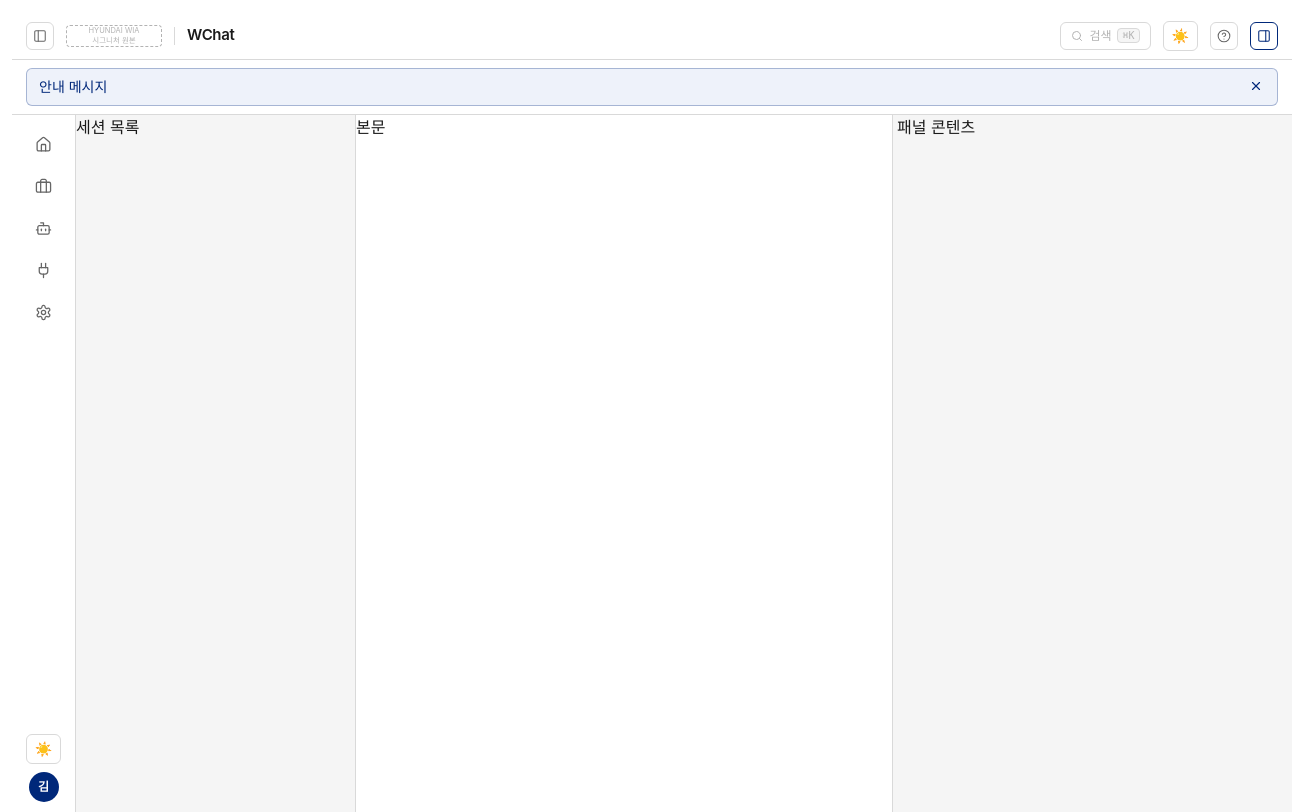
AppShell › P19-T6-15: 배너를 닫으면 사라지고, 세션(sessionStorage) 동안 재노출되지 않는다
Check: the message "안내 메시지" is shown, box [26,68,1278,106]
Click the button named "배너 닫기": (1256, 86) [1247,77,1265,95]
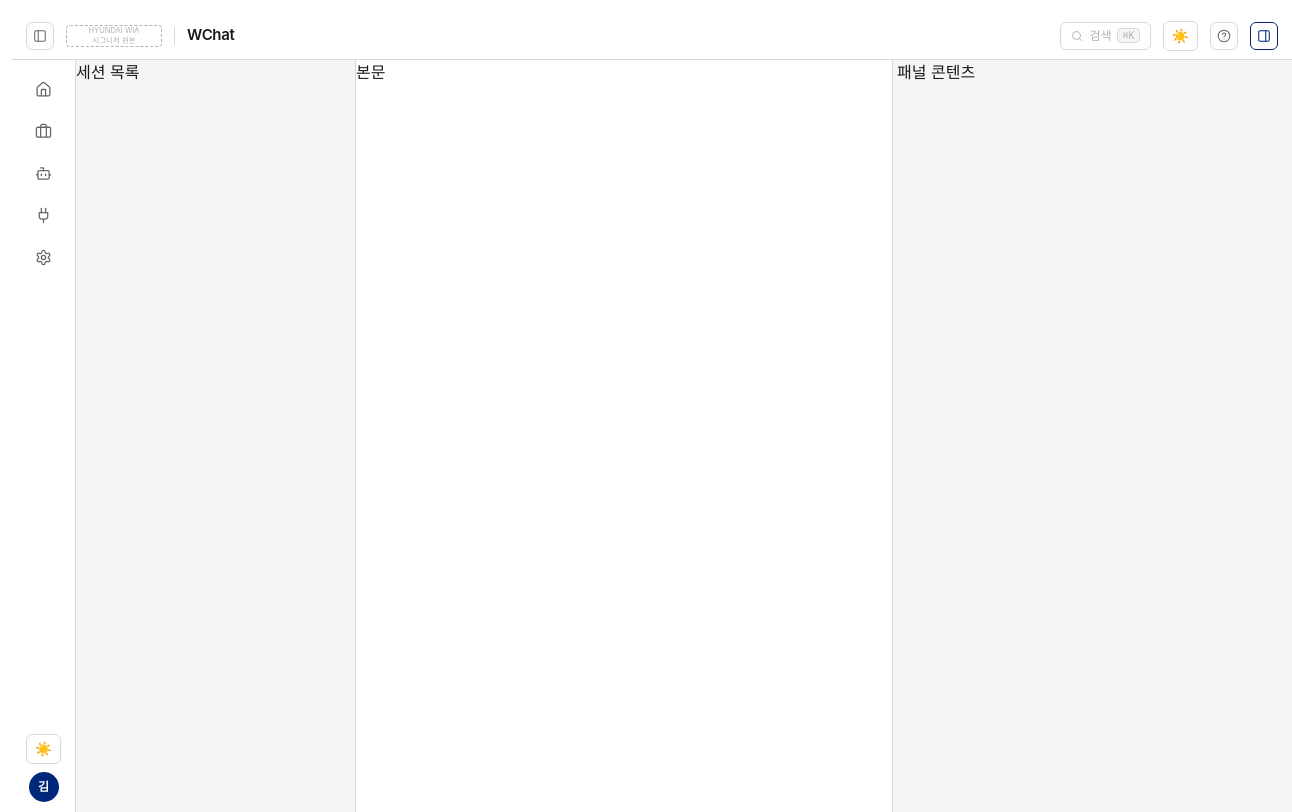
Check: the message with test id "app-banner" is gone
